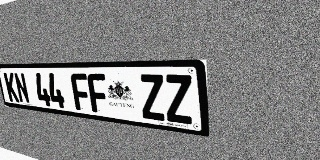4: (46, 73, 65, 108), (33, 73, 52, 107)
F: (87, 74, 110, 114), (70, 73, 92, 112)
K: (3, 73, 19, 102)
N: (13, 73, 30, 104)
Z: (164, 74, 194, 125), (138, 74, 166, 121)
